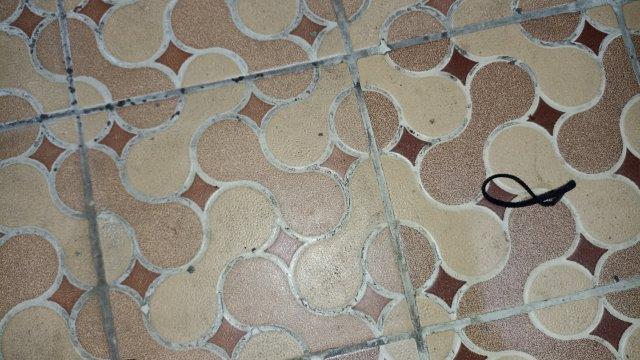karet: (482, 174, 576, 206)
